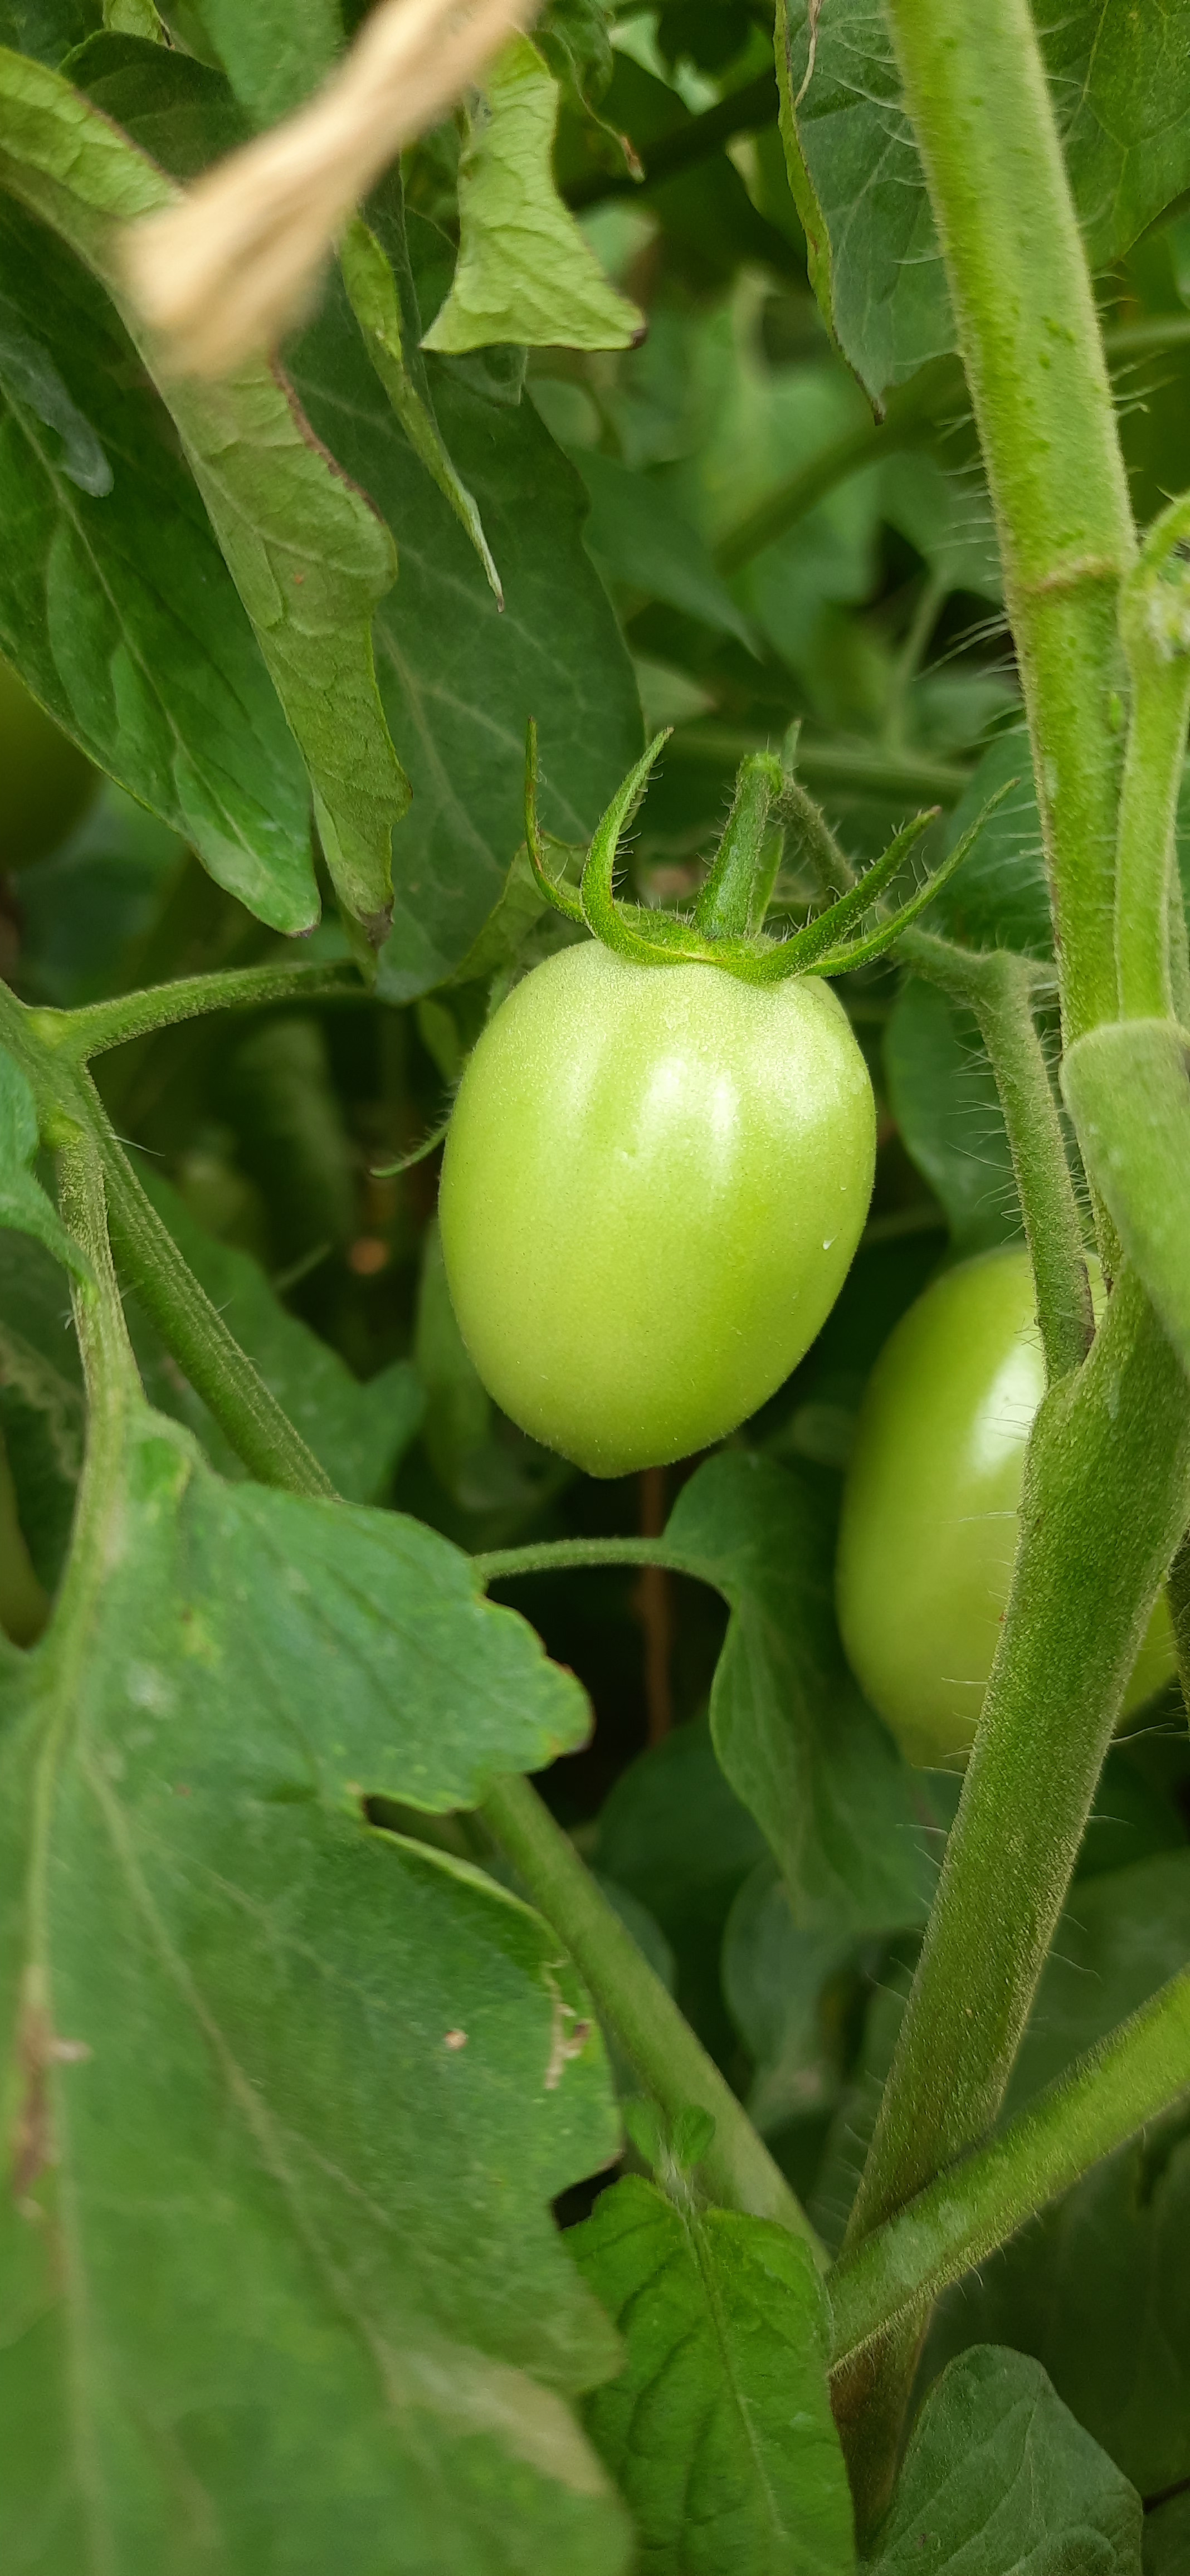raw_tomato: (416, 780, 919, 1575)
